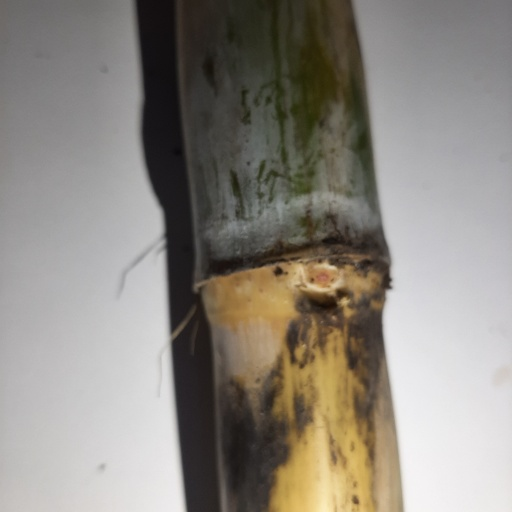Damage_Bud: (301, 259, 346, 302)
